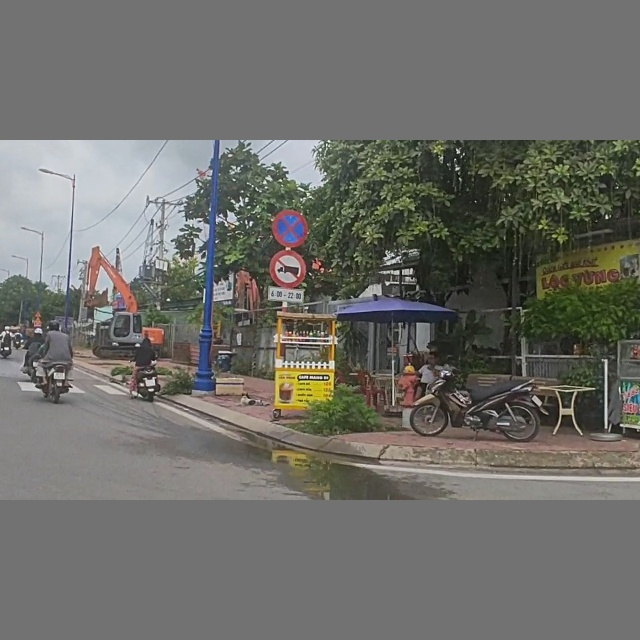B.8a: (269, 250, 306, 288)
P.130: (273, 209, 309, 247)
